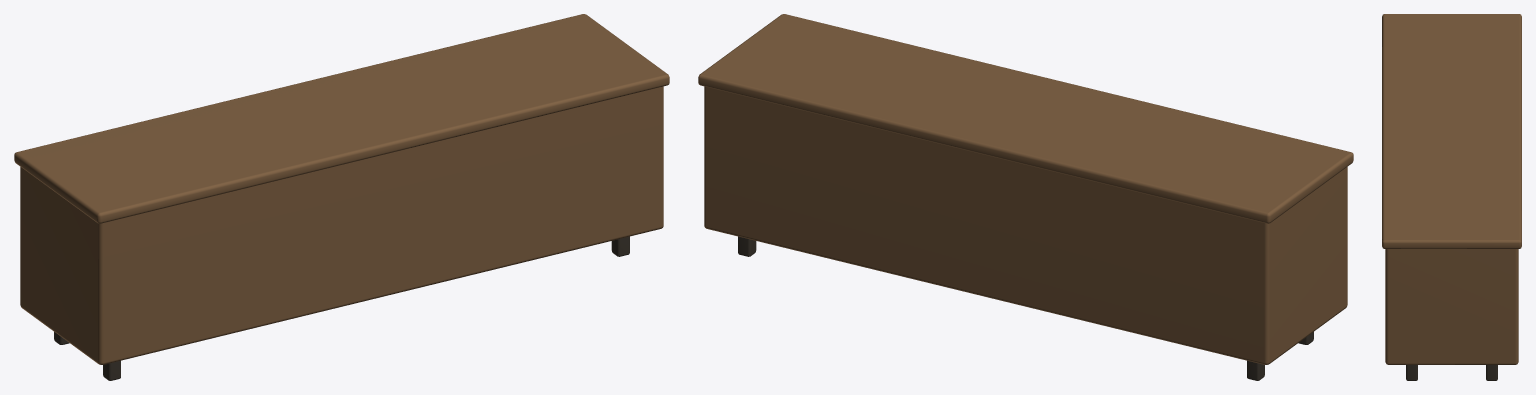
File: tv_console.glb
The picture shows the model from 3 angles, left to right: view 1: azimuth 30°, elevation 25°; view 2: azimuth 150°, elevation 25°; view 3: azimuth 270°, elevation 25°; orthographic projection. The views are drawn at different scales.
Visible parts, largest first — view 1: body; view 2: body; view 3: body.
Boxes of the visible parts, <box> form: body: <box>14,14,669,380</box>; body: <box>698,14,1353,380</box>; body: <box>1382,14,1521,380</box>.
Bounding box in the file's own units: 1.62 × 0.5 × 0.42.
